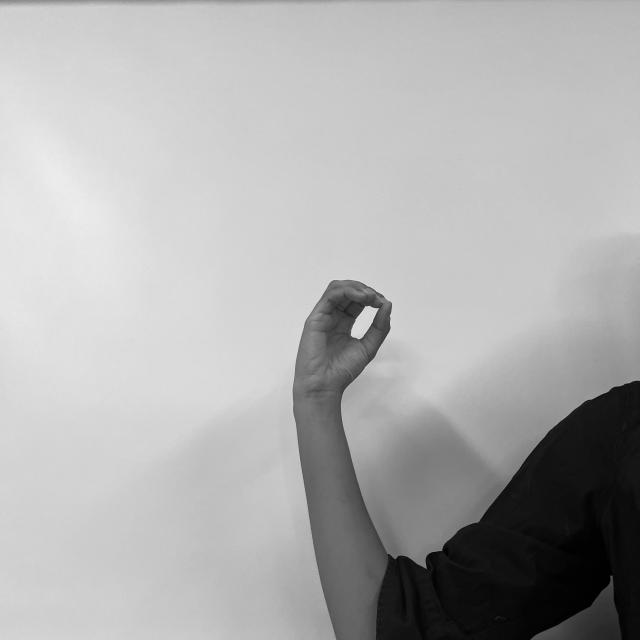Letra O: (288, 276, 396, 394)
